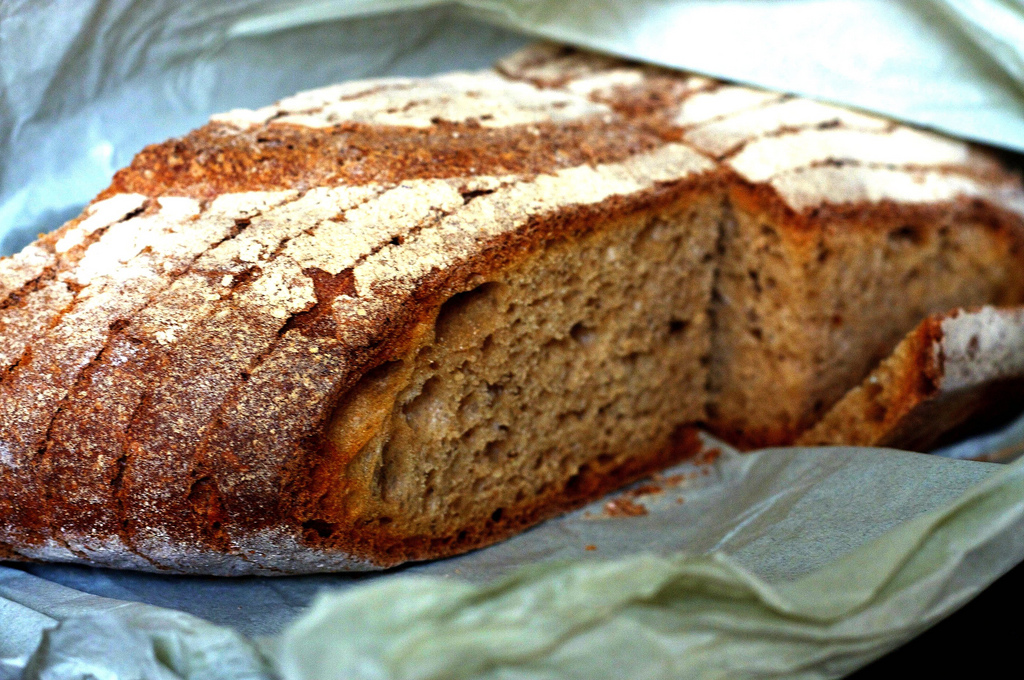slice of bread: (186, 129, 1014, 447)
